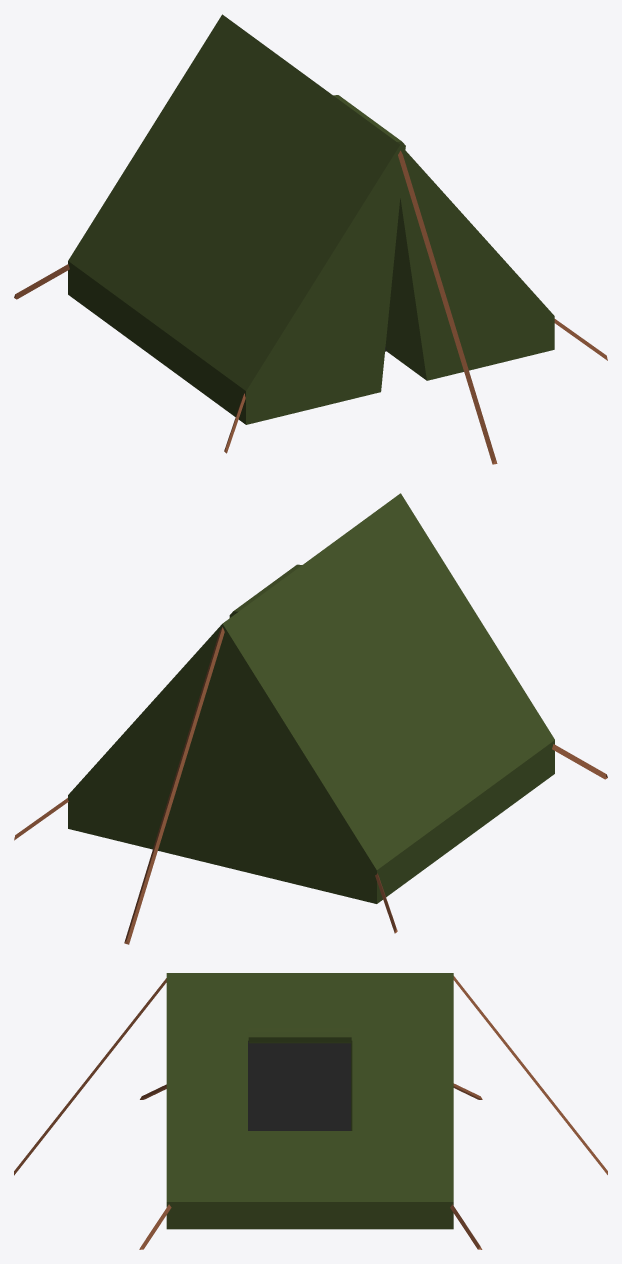
Rendered from Tent_vc.fbx.
3 renders of one model, top to bottom at view 1: azimuth 30°, elevation 25°; view 2: azimuth 150°, elevation 25°; view 3: azimuth 270°, elevation 25°, orthographic. The views are drawn at different scales.
Parts seen in each view (by area): view 1: Tent_vc; view 2: Tent_vc; view 3: Tent_vc.
Boxes of the visible parts, x1,y1,x2,y2 form: Tent_vc: (14,14,607,464); Tent_vc: (14,493,607,944); Tent_vc: (14,973,607,1249).
Size of the model in its own units: 208 by 131 by 349.
